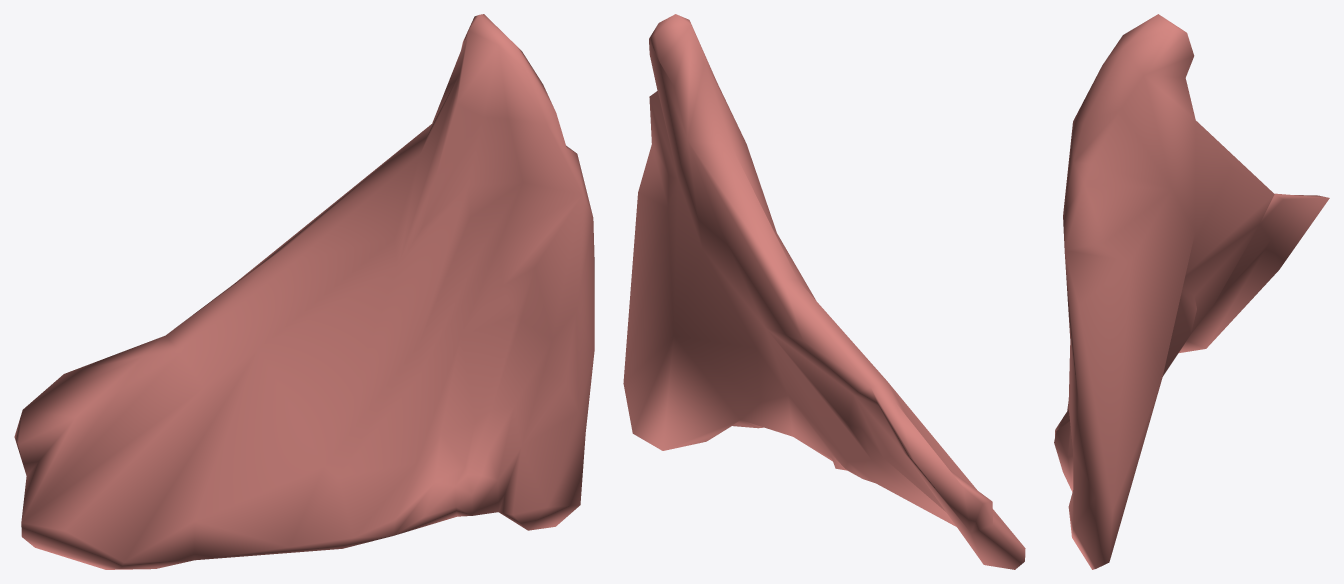
3 views of the same model, side by side, from view 1: azimuth 30°, elevation 25°; view 2: azimuth 150°, elevation 25°; view 3: azimuth 270°, elevation 25° (orthographic). The views are drawn at different scales.
Parts seen in each view (by area): view 1: ZA_e1bcca01c624c10b; view 2: ZA_e1bcca01c624c10b; view 3: ZA_e1bcca01c624c10b.
Part boxes in pixels (<box>): ZA_e1bcca01c624c10b: <box>14,14,594,569</box>; ZA_e1bcca01c624c10b: <box>623,14,1025,569</box>; ZA_e1bcca01c624c10b: <box>1054,14,1329,569</box>.
Size of the model in its own units: 0.0166 by 0.0161 by 0.00757.
